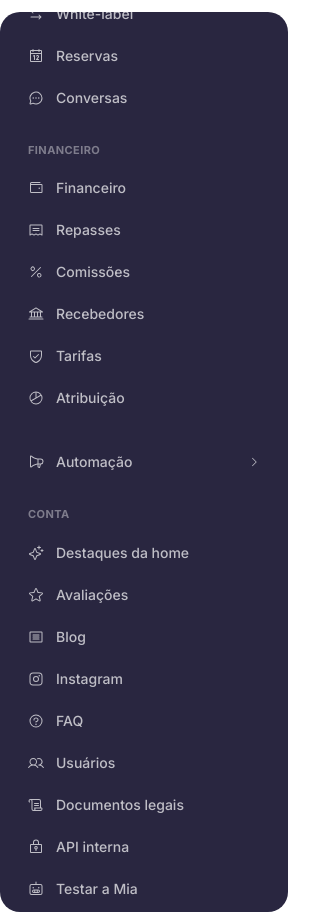
Test case: Sidebar: item com subitens › abre e fecha no clique
(page scrolled)
Step 1. Click the button "Automação" → {"x": 144, "y": 462}, box [16,442,272,482]
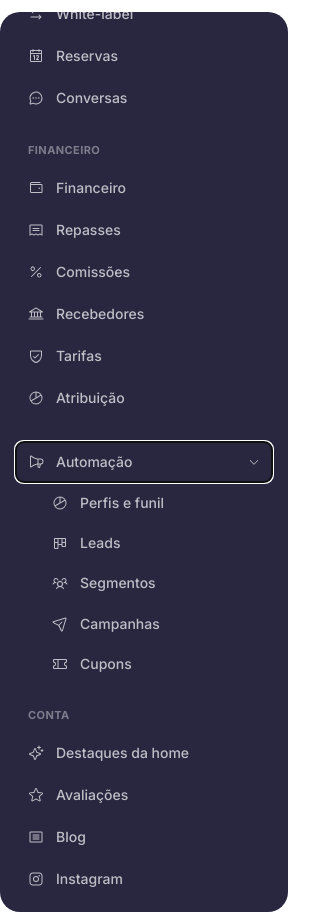
Expected: the link "Campanhas" is shown, [52,614,160,632]
Step 2. Click the button "Automação" → {"x": 144, "y": 462}, box [16,442,272,482]
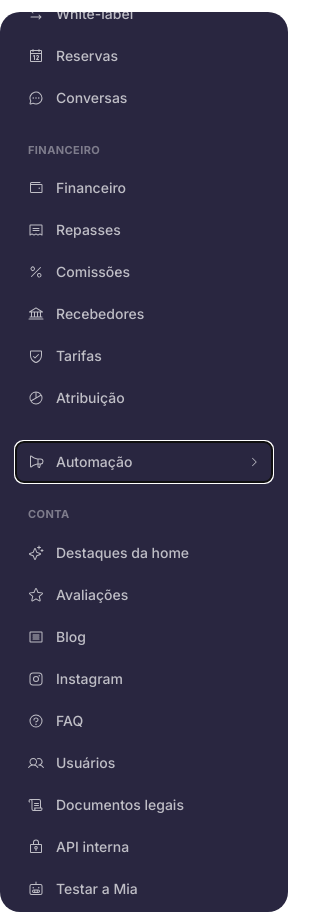
Expected: the link "Campanhas" is gone
